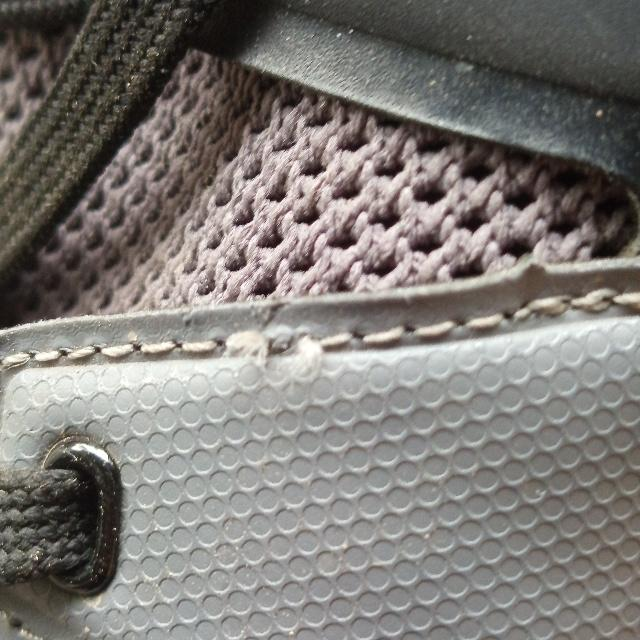broken-error: (228, 311, 338, 377)
